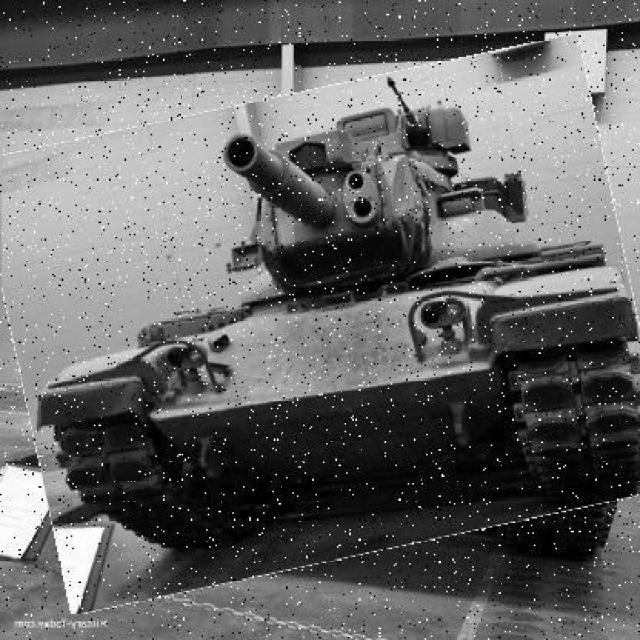Tank: (3, 64, 640, 589)
